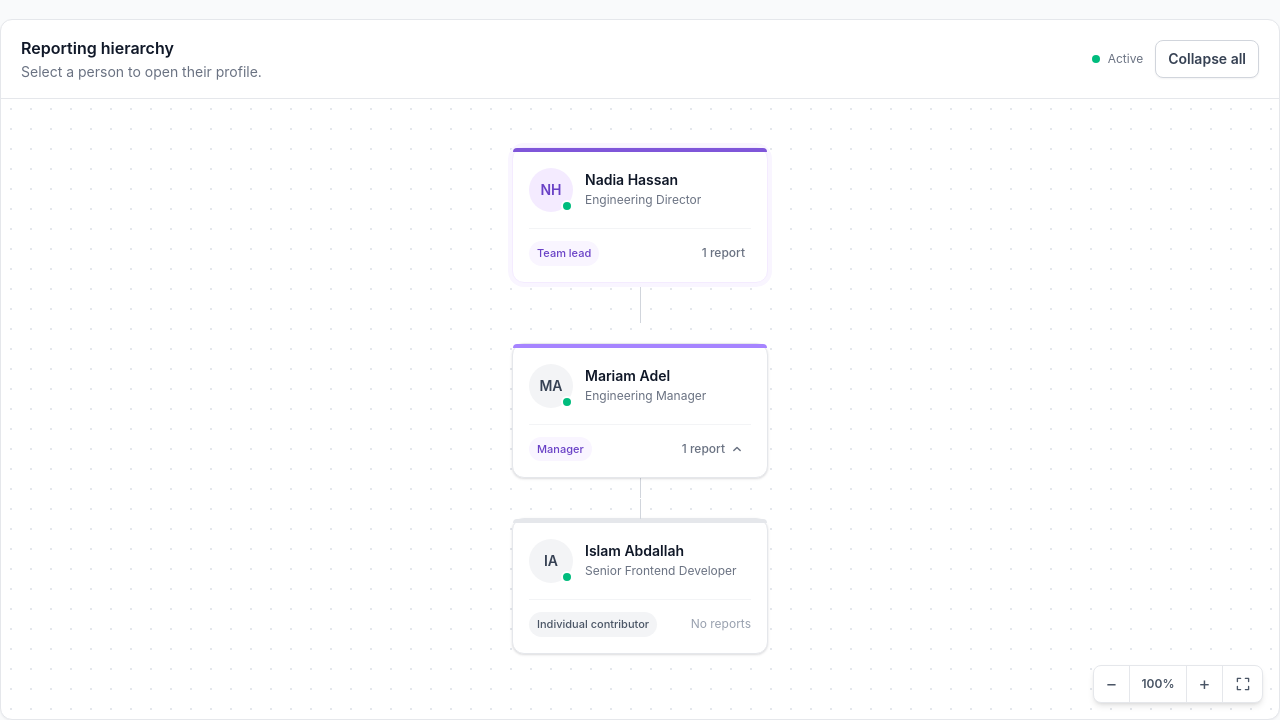
Test: OrganizationPage › updates the displayed zoom level
The image size is (1280, 720).
(page scrolled)
Expected: the heading "Reporting hierarchy" is shown, x1=21 y1=38 x2=174 y2=58
Click the button named "Zoom in" at coordinates (1204, 684), box x1=1186 y1=666 x2=1222 y2=702
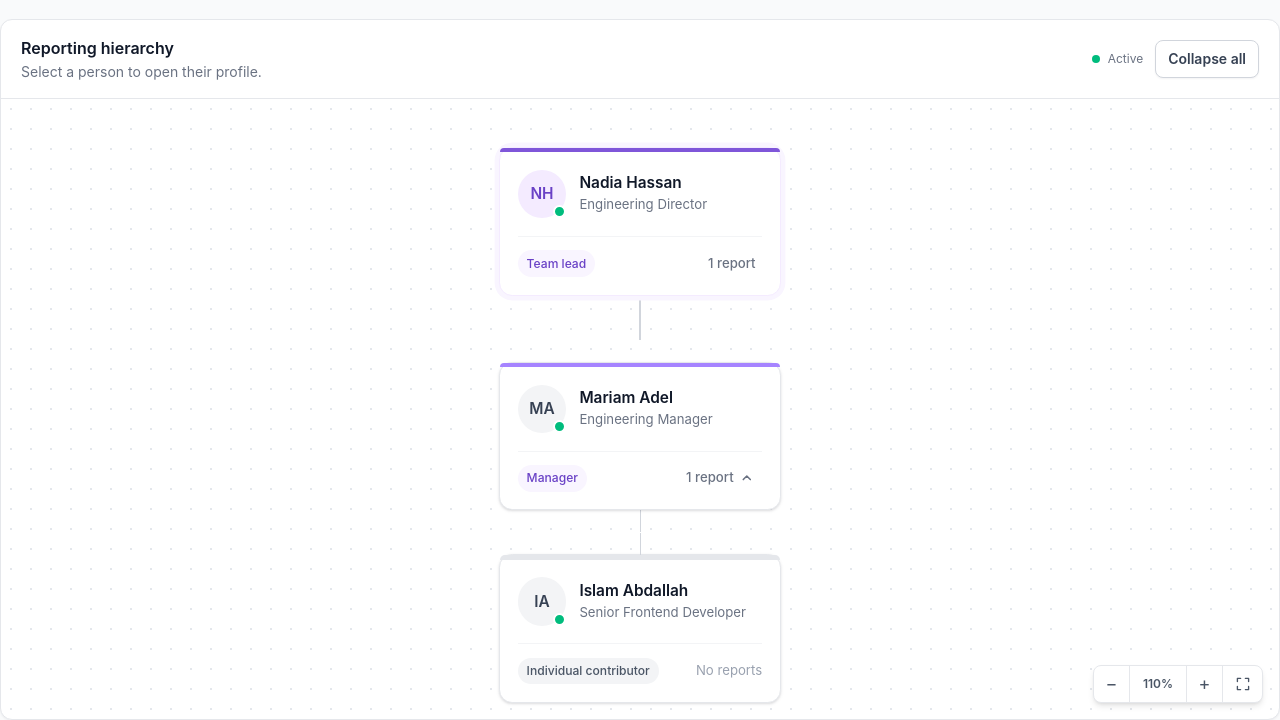
Result: the text "110%" is shown at x1=1143 y1=676 x2=1173 y2=691
Click the button named "Zoom out" at coordinates (1112, 684), box x1=1094 y1=666 x2=1130 y2=702
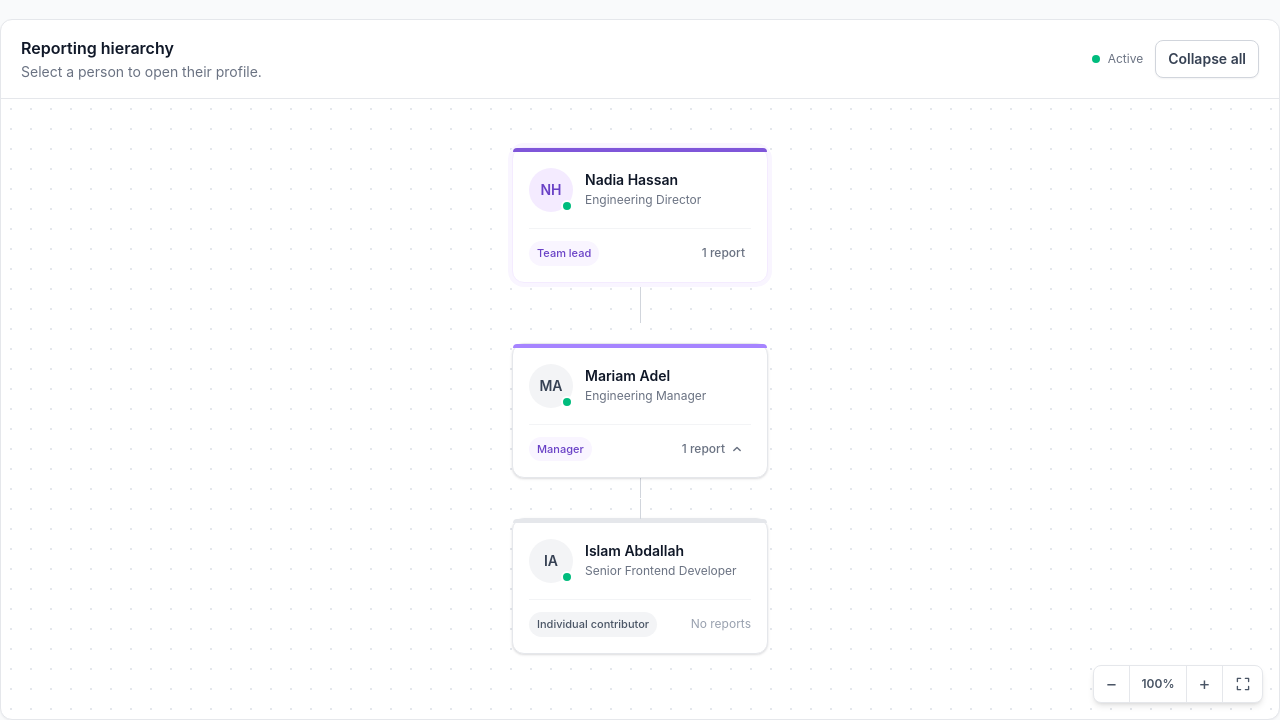
Result: the text "100%" is shown at x1=1142 y1=676 x2=1174 y2=691
